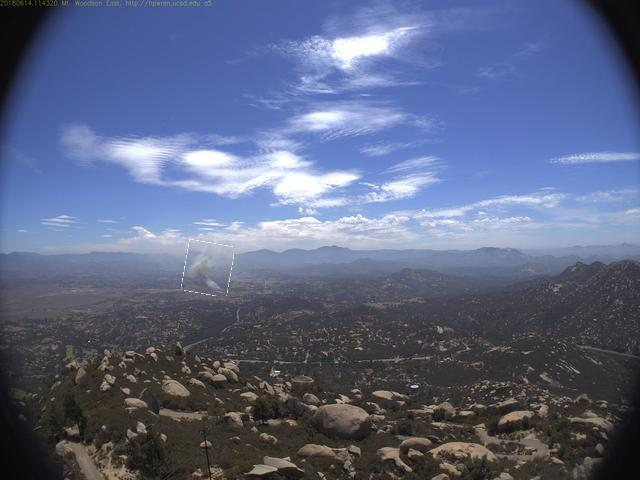smoke: (184, 242, 234, 297)
